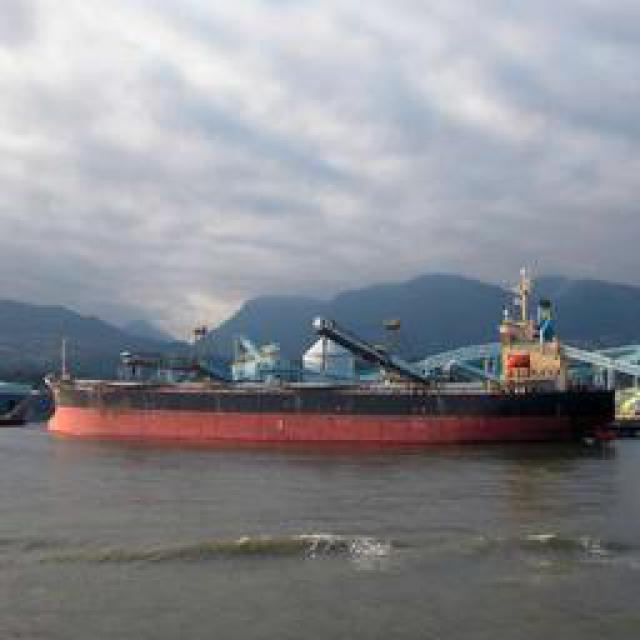Ship: (28, 333, 626, 451)
